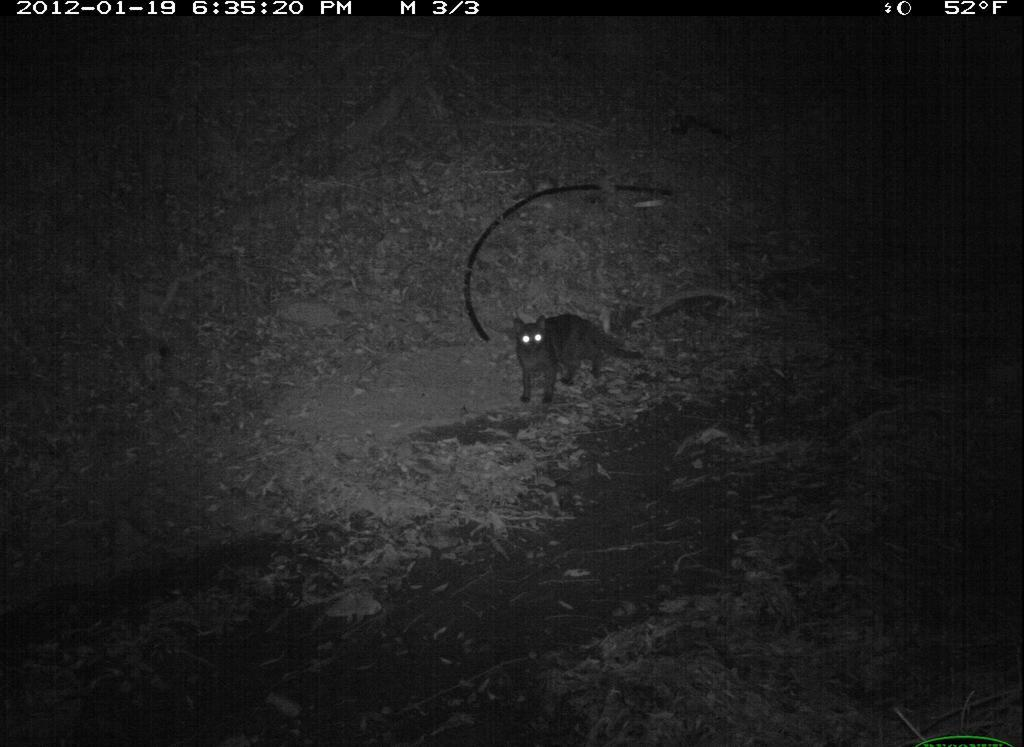cat: (493, 303, 651, 417)
